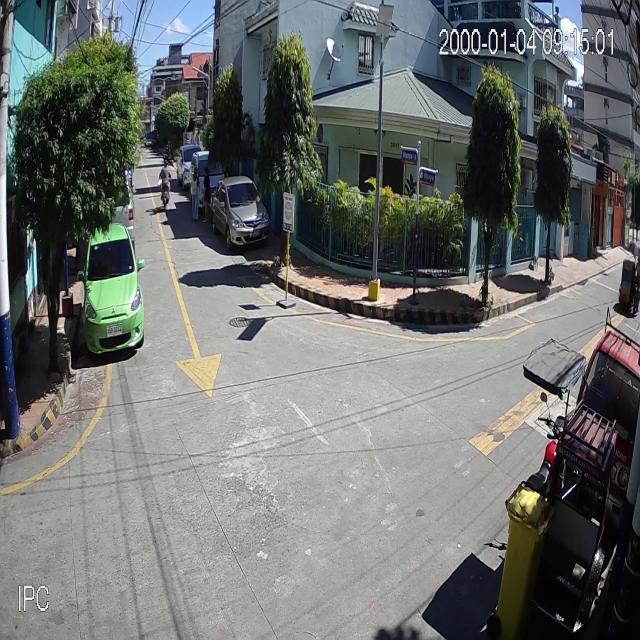standing: (189, 166, 201, 221), (201, 166, 211, 223)
